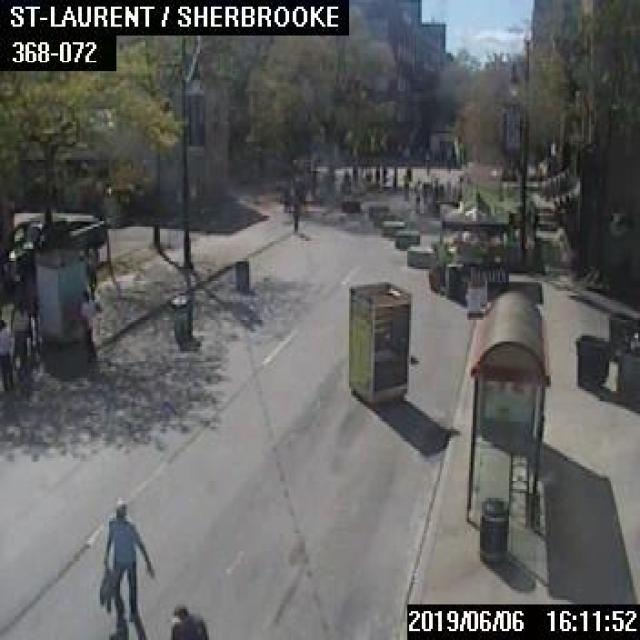pedestrian: (96, 498, 154, 620), (168, 602, 208, 638), (10, 299, 27, 369), (0, 317, 11, 392), (85, 243, 98, 287)
vehicle: (0, 211, 105, 284)
